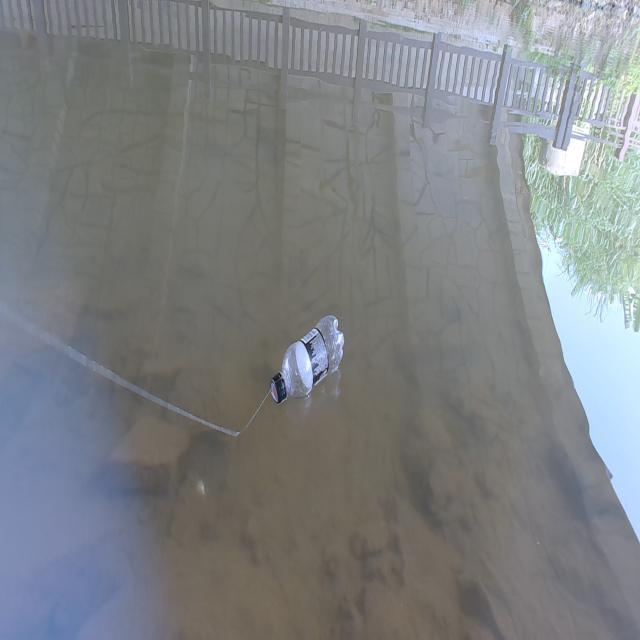garbage: (270, 313, 345, 405)
